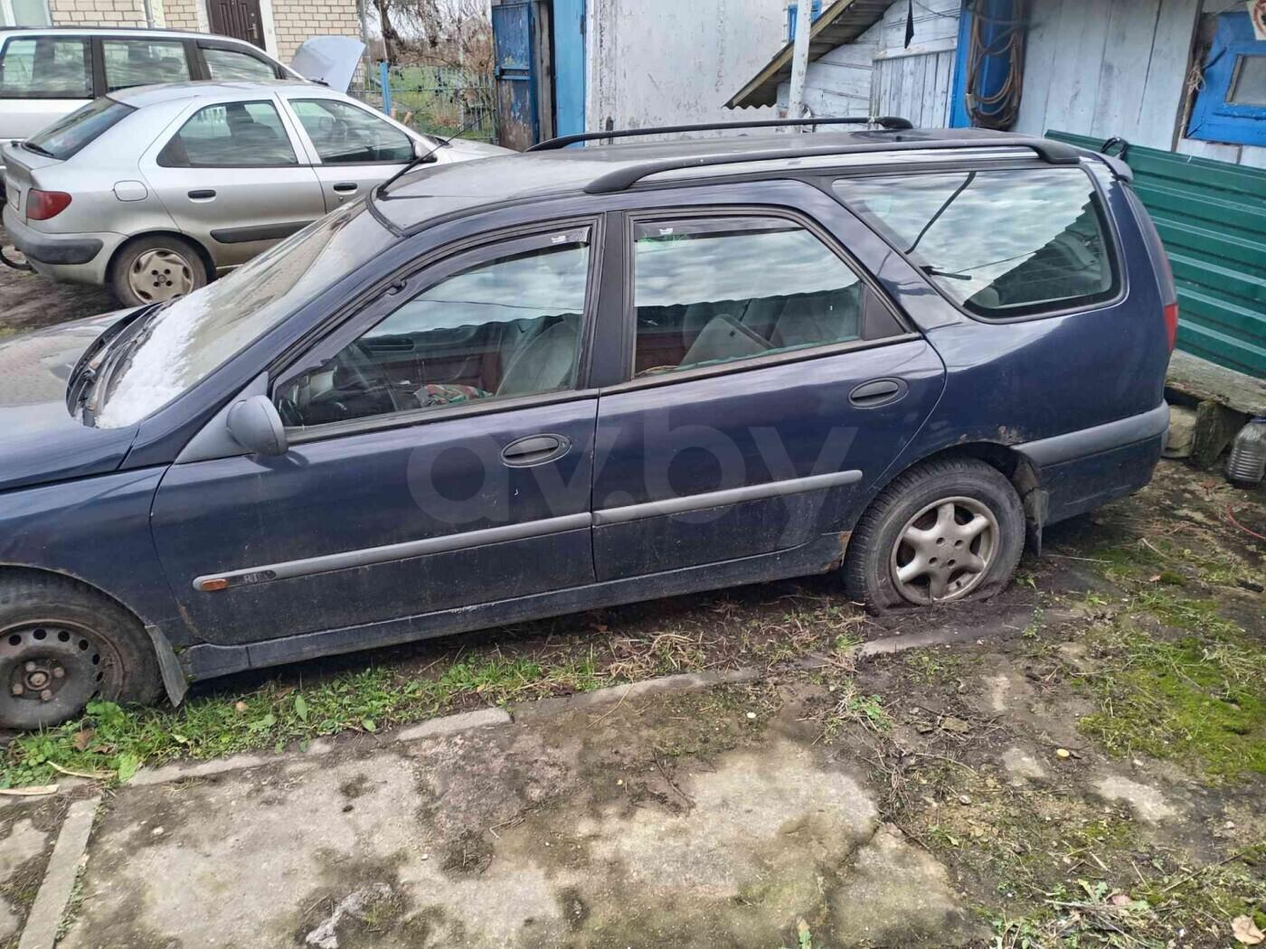Lahuna_1993-1999: (1, 123, 1176, 751)
